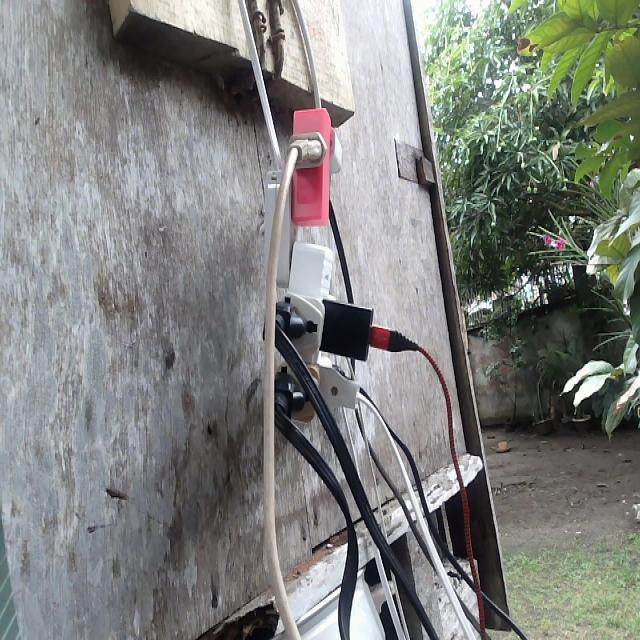-: (257, 102, 384, 426)
